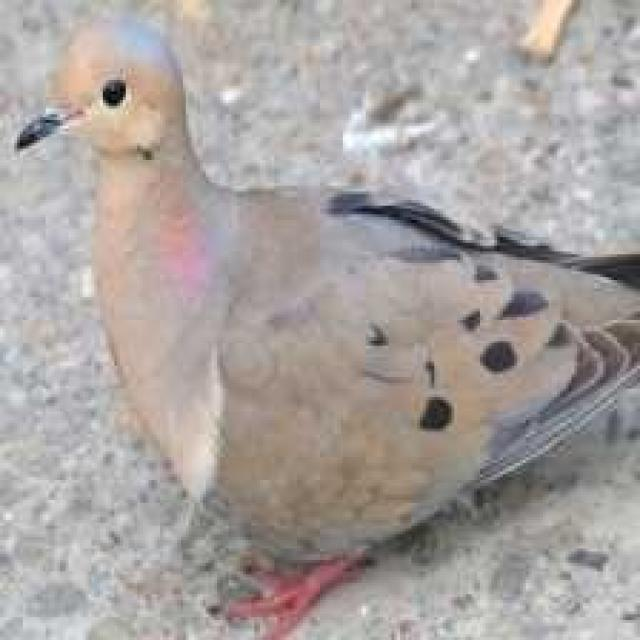bird: (15, 18, 640, 622)
